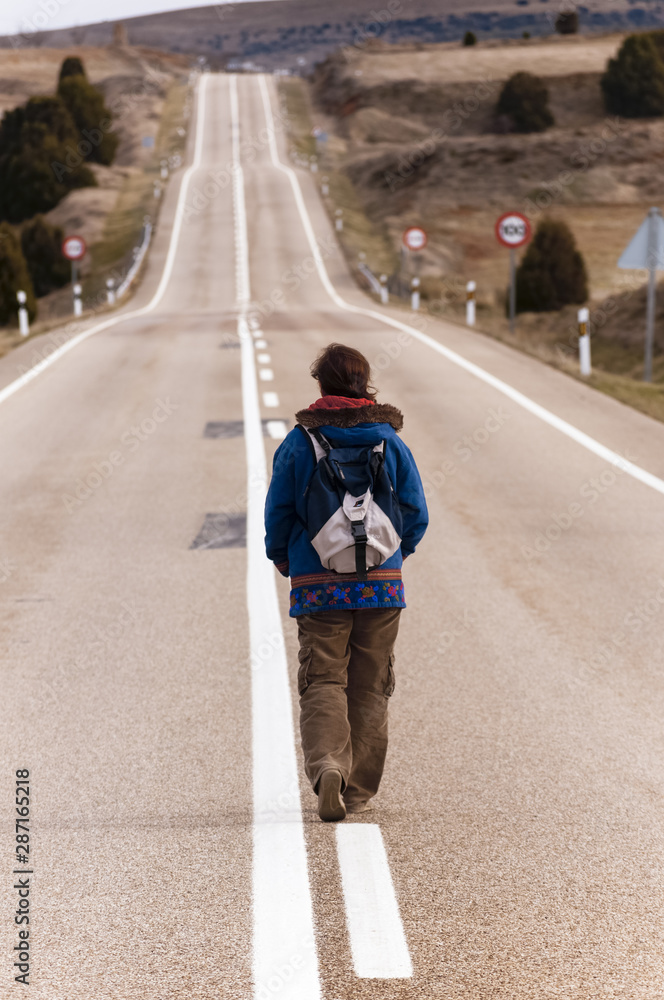Person: (247, 337, 422, 823)
